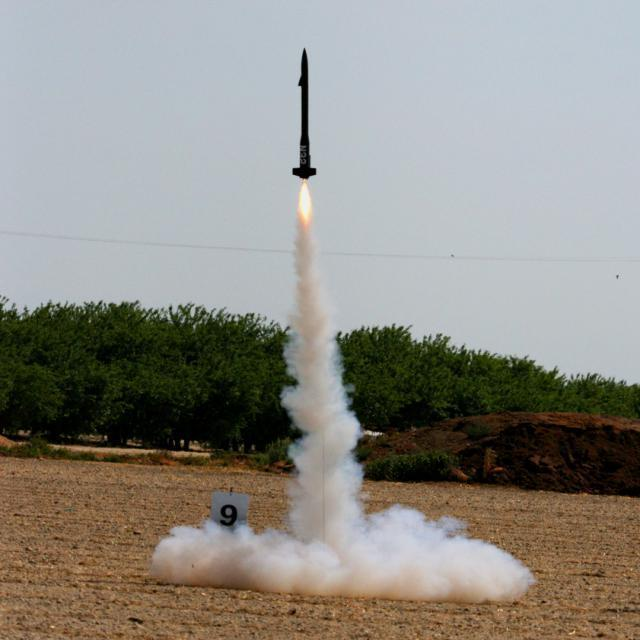missile: (292, 46, 319, 181)
